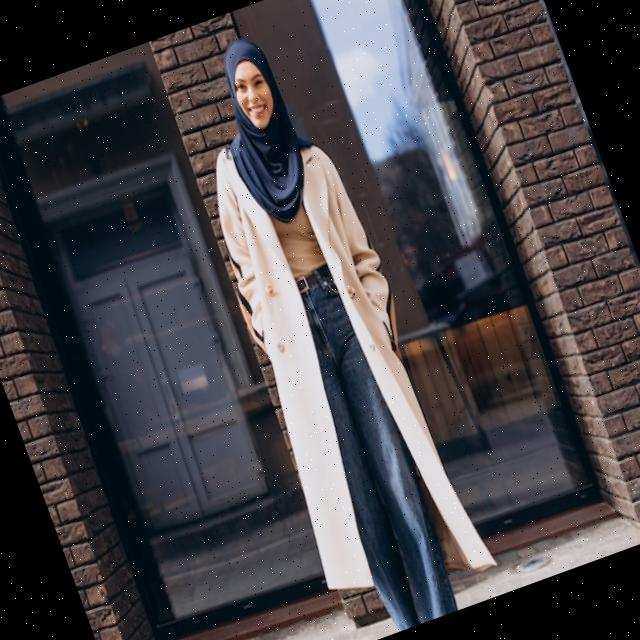Person: (141, 16, 507, 640)
